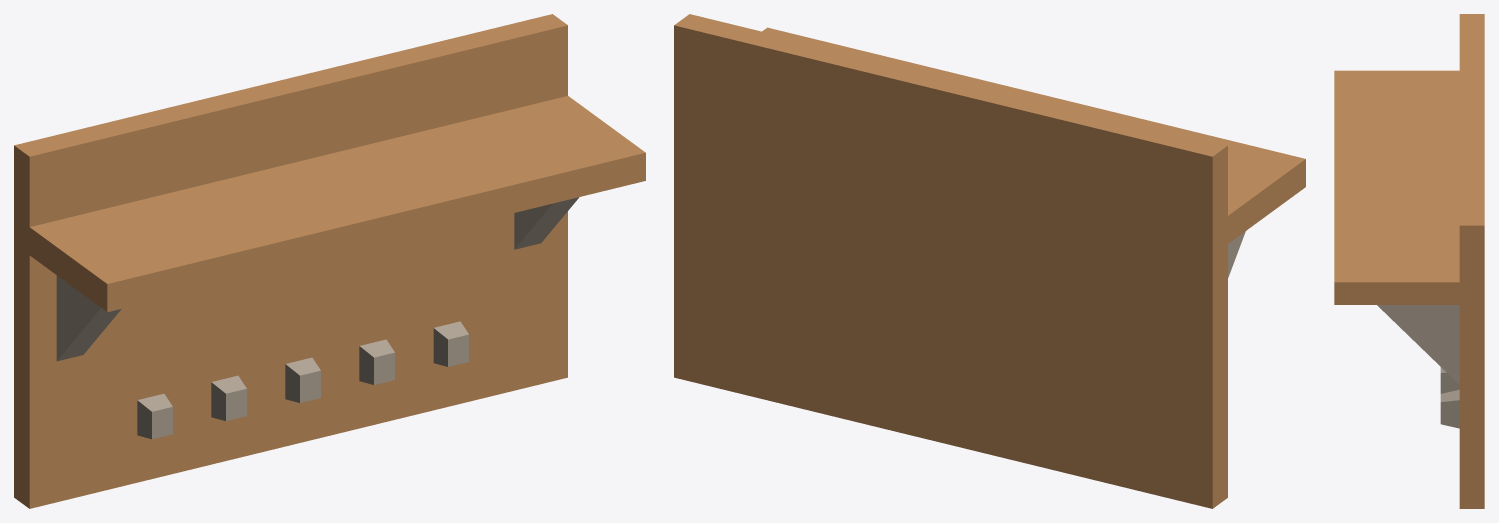
File: kitCoatRack.glb
The picture shows the model from 3 angles, left to right: view 1: azimuth 30°, elevation 25°; view 2: azimuth 150°, elevation 25°; view 3: azimuth 270°, elevation 25°; orthographic projection. The views are drawn at different scales.
Parts seen in each view (by area): view 1: kitCoatRack_wood, kitCoatRack_metalMedium; view 2: kitCoatRack_wood; view 3: kitCoatRack_wood, kitCoatRack_metalMedium.
Boxes of the visible parts, bbox=[...] form: kitCoatRack_wood: bbox=[14, 14, 645, 508]; kitCoatRack_metalMedium: bbox=[56, 197, 579, 439]; kitCoatRack_wood: bbox=[674, 14, 1305, 508]; kitCoatRack_wood: bbox=[1334, 14, 1484, 508]; kitCoatRack_metalMedium: bbox=[1377, 305, 1459, 428].
Bounding box in the file's own units: 0.896 × 0.56 × 0.2688.
